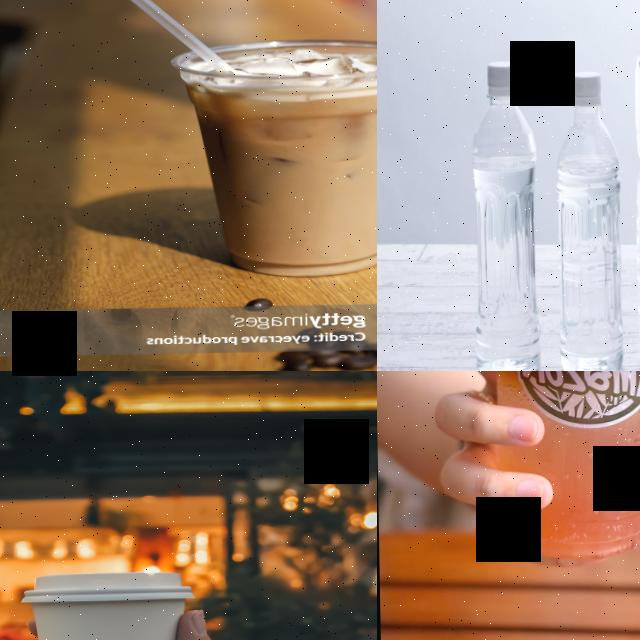bottle: (469, 59, 541, 371), (553, 71, 623, 371)
cup: (170, 36, 377, 279), (464, 371, 640, 562), (17, 570, 197, 640)
